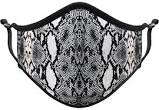cloth_mask: (1, 1, 159, 109)
